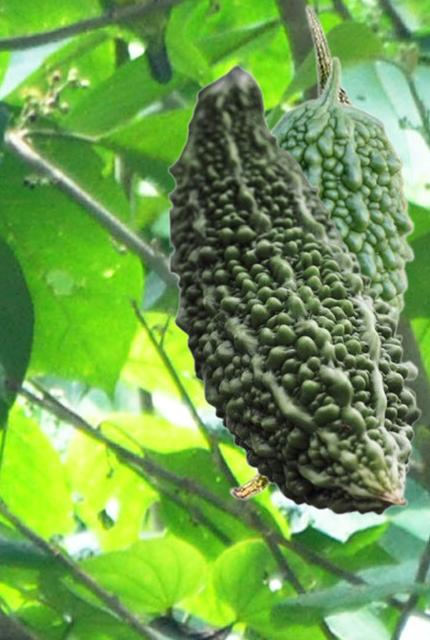ampalaya: (167, 63, 421, 515), (228, 2, 358, 499), (270, 55, 414, 328)
